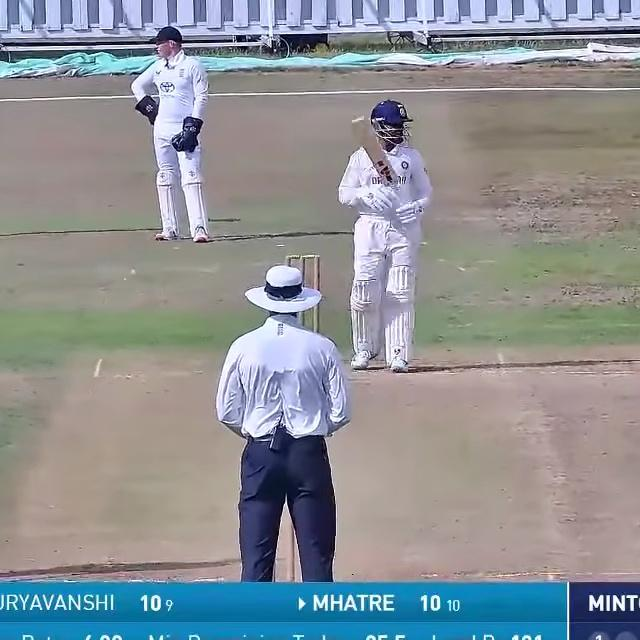umpire: (204, 250, 362, 582)
